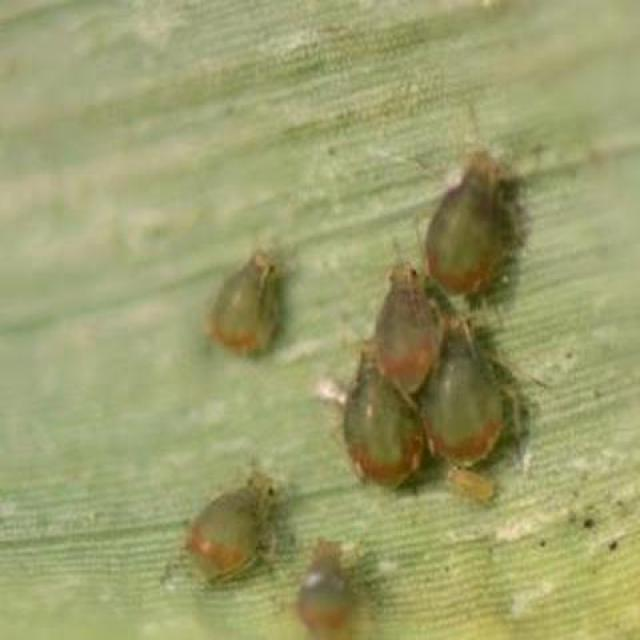Aphid-Grown-: (400, 117, 542, 318), (400, 314, 547, 484), (137, 447, 289, 594), (322, 340, 449, 510), (354, 243, 462, 414), (198, 222, 311, 378)
